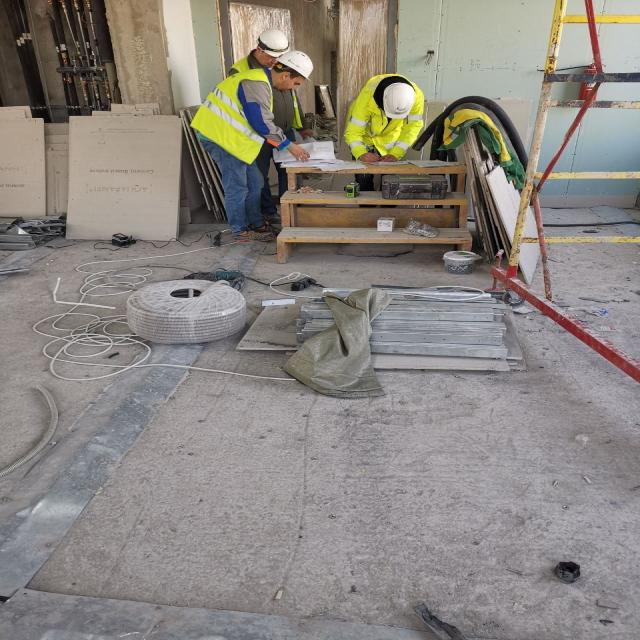Helmet: (274, 52, 316, 82), (383, 85, 417, 120), (259, 30, 289, 58)
Jacket: (211, 72, 274, 152), (353, 118, 419, 156)
